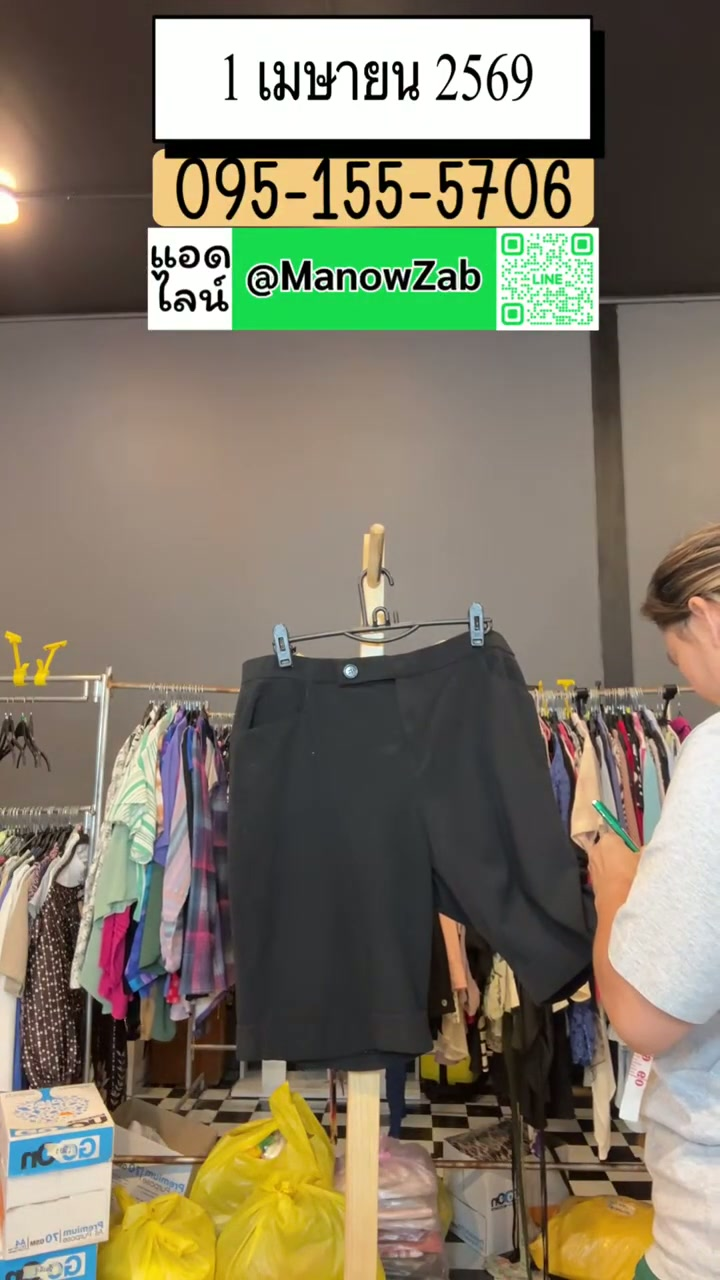display_shirt: (230, 624, 593, 1071)
